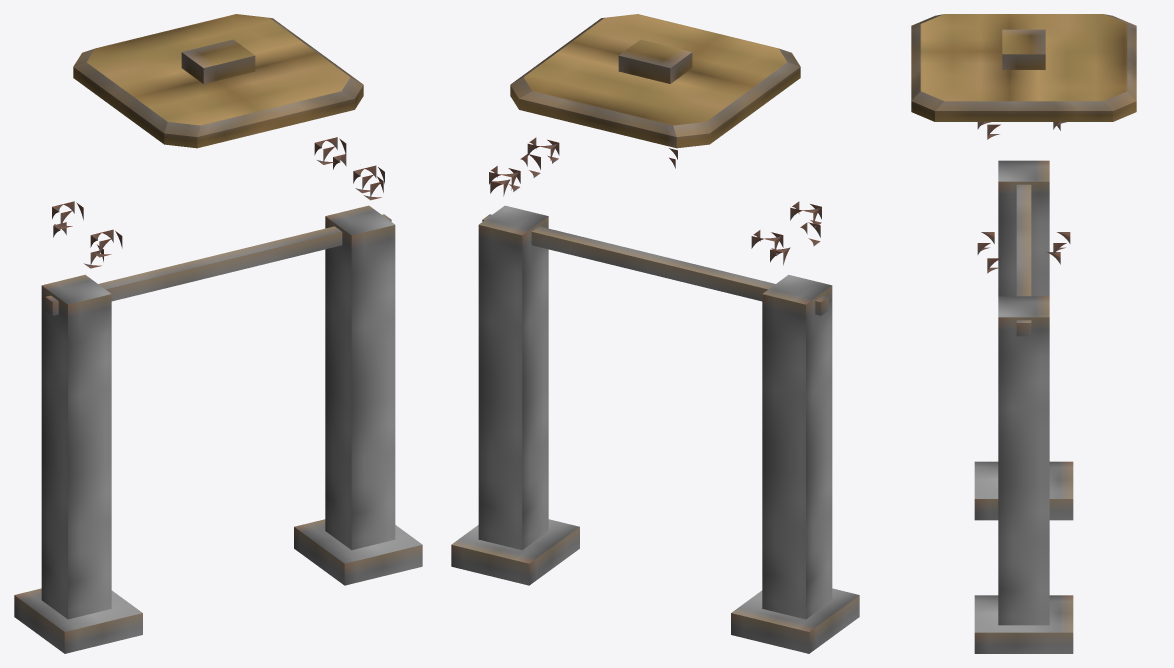
File: spice_grinder.obj
3 renders of one model, left to right at view 1: azimuth 30°, elevation 25°; view 2: azimuth 150°, elevation 25°; view 3: azimuth 270°, elevation 25°, orthographic. The views are drawn at different scales.
Parts seen in each view (by area): view 1: smooth_stone_lid, left_leg, right_leg, waist_axle, right_foot, left_foot, stone_lid_knob; view 2: smooth_stone_lid, left_leg, right_leg, waist_axle, right_foot, left_foot, stone_lid_knob; view 3: smooth_stone_lid, right_leg, left_leg, right_foot, left_foot, waist_axle, stone_lid_knob.
Part boxes in pixels (bbox=[...]): smooth_stone_lid: bbox=[73, 14, 363, 148]; left_leg: bbox=[41, 274, 111, 619]; right_leg: bbox=[325, 205, 395, 550]; waist_axle: bbox=[45, 214, 391, 315]; right_foot: bbox=[294, 519, 422, 585]; left_foot: bbox=[14, 588, 142, 653]; stone_lid_knob: bbox=[181, 39, 255, 83]; smooth_stone_lid: bbox=[510, 14, 800, 148]; left_leg: bbox=[762, 274, 832, 619]; right_leg: bbox=[478, 205, 548, 550]; waist_axle: bbox=[482, 214, 828, 315]; right_foot: bbox=[451, 519, 579, 585]; left_foot: bbox=[731, 588, 859, 653]; stone_lid_knob: bbox=[618, 39, 692, 83]; smooth_stone_lid: bbox=[911, 14, 1136, 121]; right_leg: bbox=[998, 296, 1049, 625]; left_leg: bbox=[998, 160, 1049, 296]; right_foot: bbox=[974, 595, 1073, 653]; left_foot: bbox=[974, 461, 1073, 520]; waist_axle: bbox=[1016, 184, 1031, 336]; stone_lid_knob: bbox=[1002, 29, 1045, 69].
Bounding box in the file's own units: 1 × 1.44 × 0.6702.
